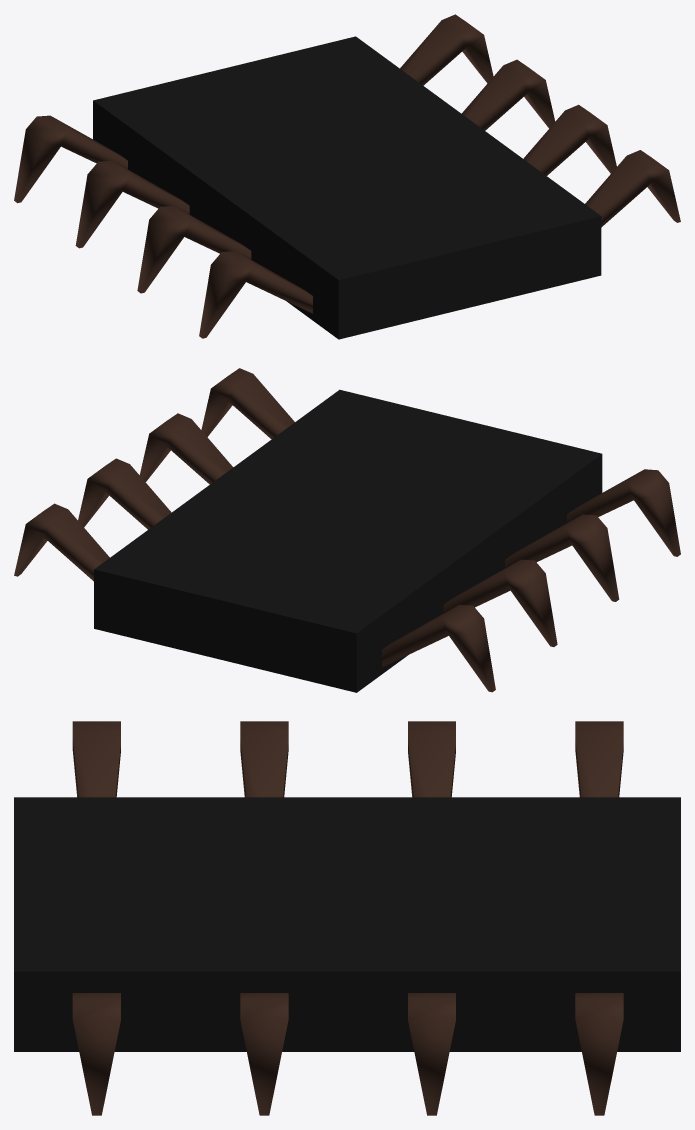
The model's file is Mesh_MtPanorama_Chip1.FBX.
The picture shows the model from 3 angles, top to bottom: view 1: azimuth 30°, elevation 25°; view 2: azimuth 150°, elevation 25°; view 3: azimuth 270°, elevation 25°; orthographic projection. The views are drawn at different scales.
Parts seen in each view (by area): view 1: Mesh_MtPanorama_Chip1; view 2: Mesh_MtPanorama_Chip1; view 3: Mesh_MtPanorama_Chip1.
Part boxes in pixels (<box>): Mesh_MtPanorama_Chip1: <box>14,14,680,339</box>; Mesh_MtPanorama_Chip1: <box>14,368,680,692</box>; Mesh_MtPanorama_Chip1: <box>14,721,680,1115</box>.
Size of what is drawn, in the model's own units: 313 by 279 by 48.62.
